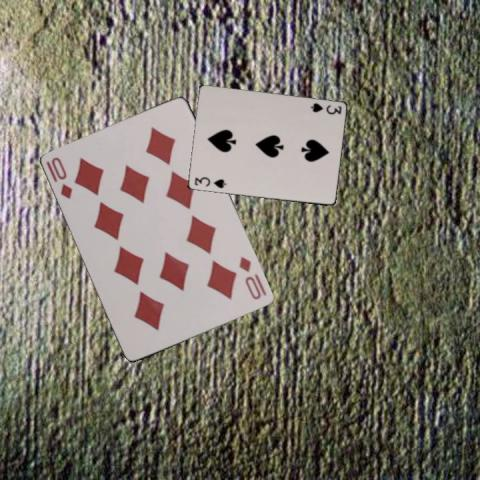10d: (43, 154, 74, 201), (236, 253, 263, 302)
3s: (191, 174, 227, 190), (307, 100, 343, 116)
